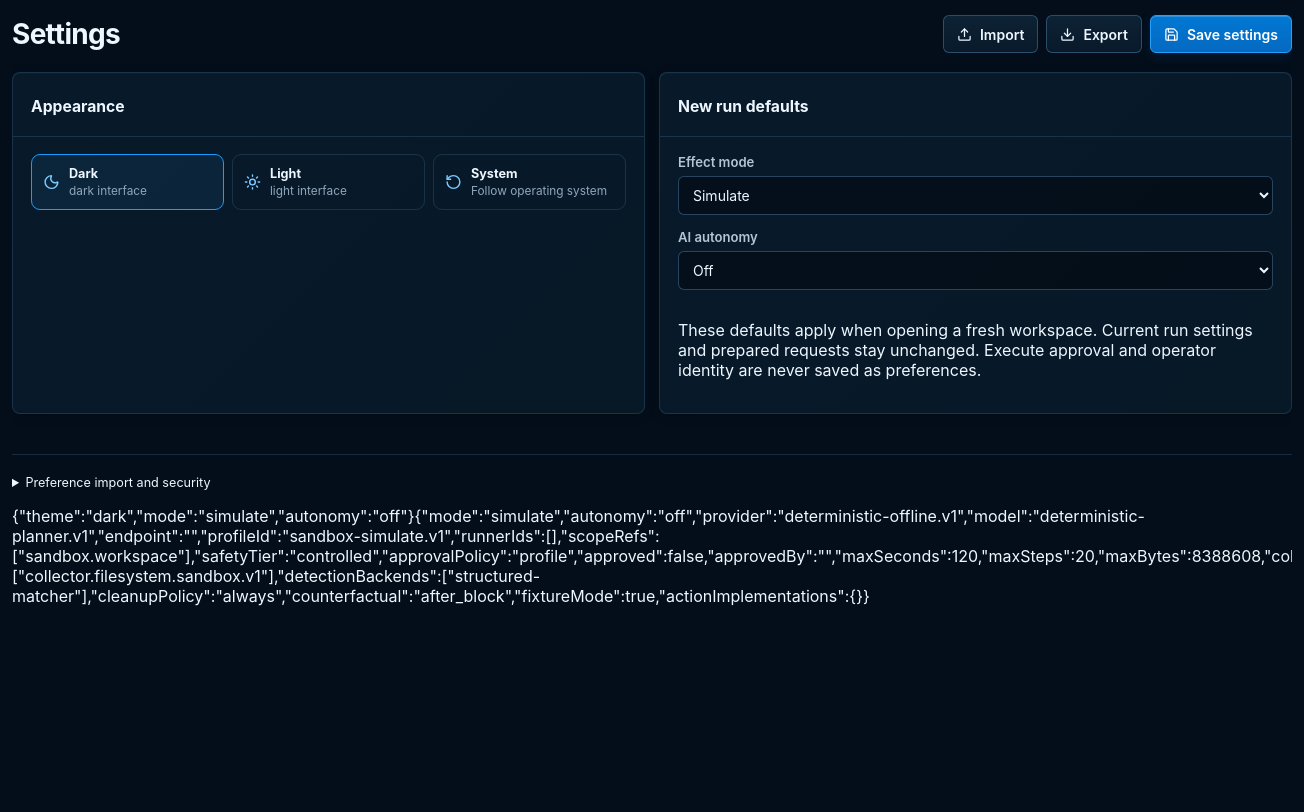
Test case: reports a save as durable when the form still matches what was submitted
Select "Assist" in the dropdown labelled "AI autonomy": (976, 270) [678, 251, 1273, 290]
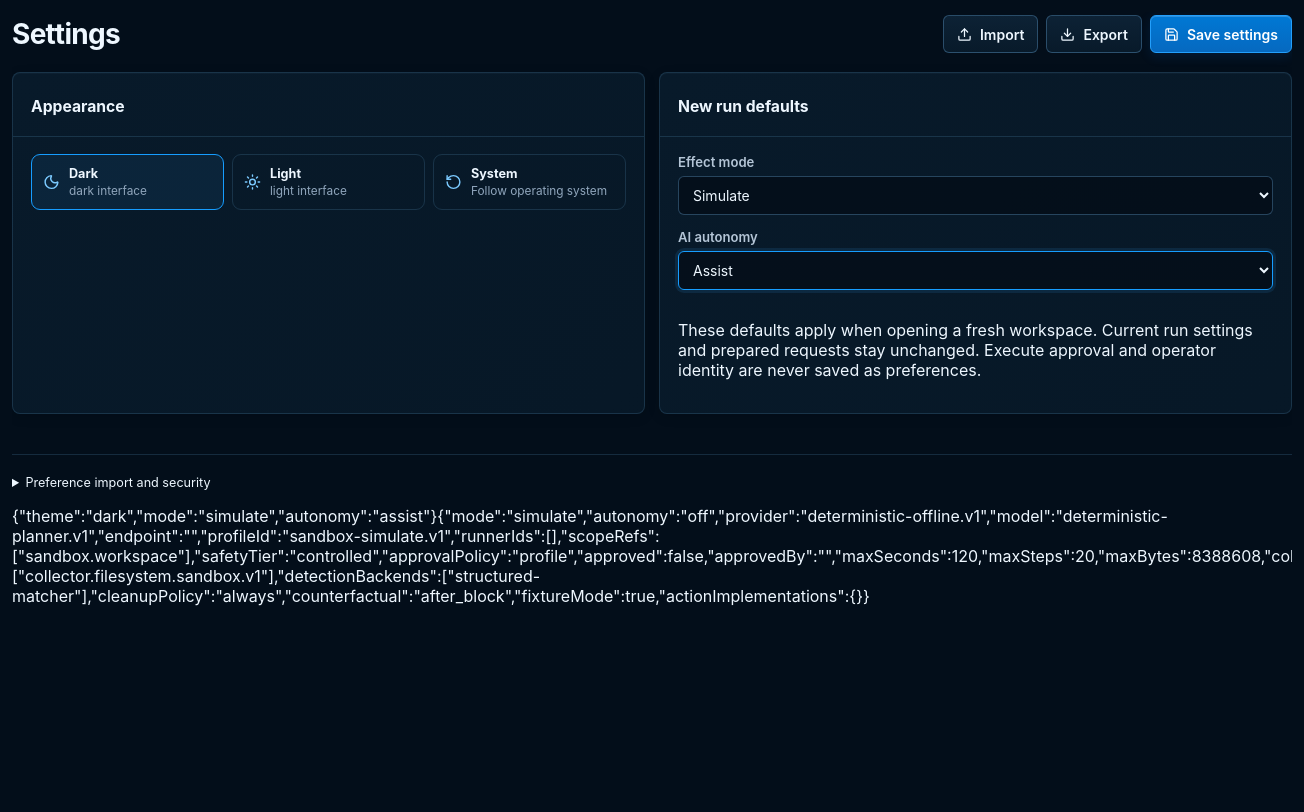
Click the button "Save settings": (1221, 34) [1150, 15, 1292, 53]
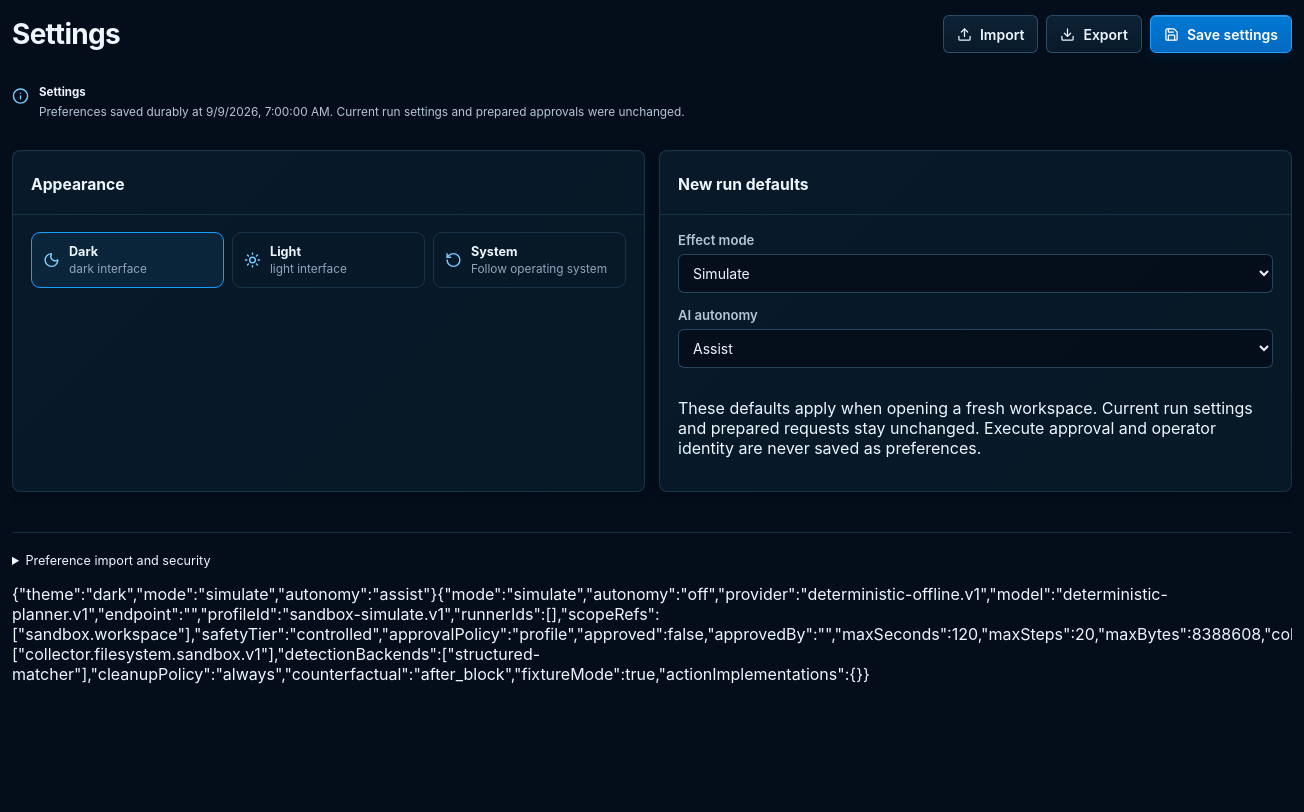
Now the text "Preferences saved durably" is shown, box [39, 105, 685, 119]
